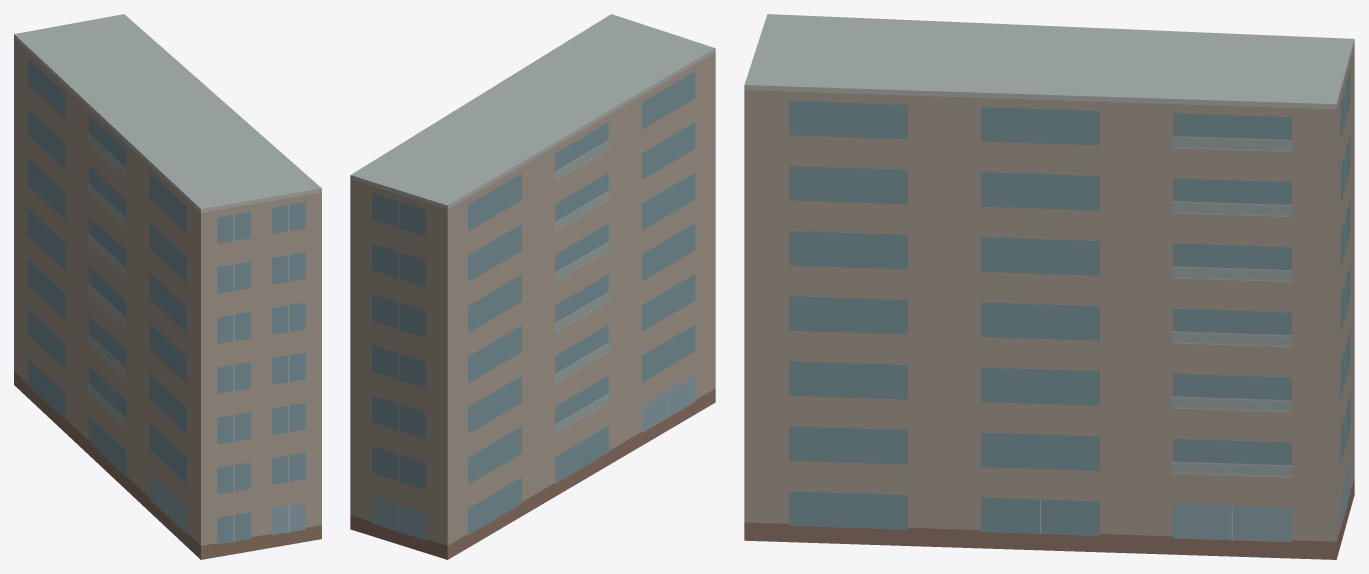
File: survey-upis-32662550.glb
The picture shows the model from 3 angles, left to right: view 1: azimuth 30°, elevation 25°; view 2: azimuth 150°, elevation 25°; view 3: azimuth 270°, elevation 25°; orthographic projection. The views are drawn at different scales.
Visible parts, largest first — view 1: survey-upis-32662550.tmp; view 2: survey-upis-32662550.tmp; view 3: survey-upis-32662550.tmp.
Boxes of the visible parts, x1=… form: survey-upis-32662550.tmp: x1=14, y1=14, x2=321, y2=559; survey-upis-32662550.tmp: x1=350, y1=14, x2=715, y2=559; survey-upis-32662550.tmp: x1=744, y1=14, x2=1354, y2=559.
Size of the model in its own units: 9.08 by 21.35 by 25.92.
